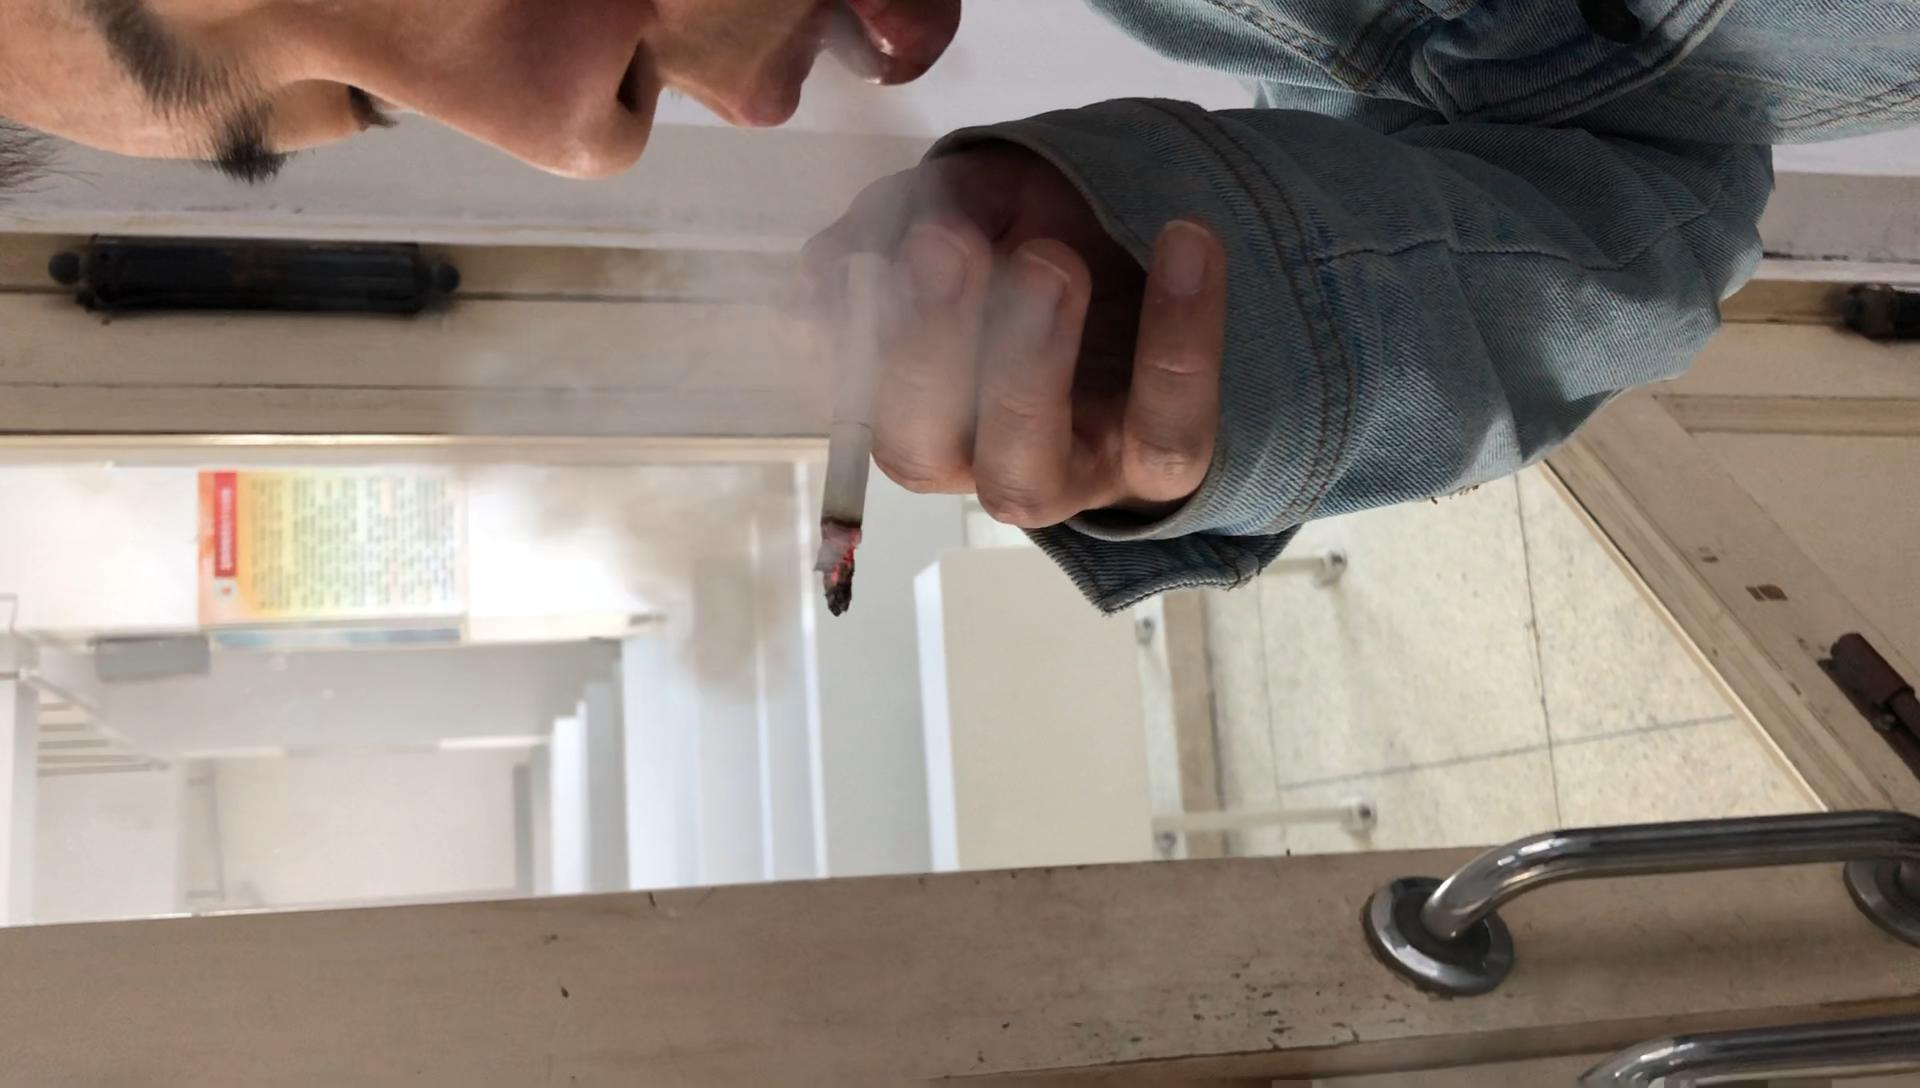Cigarette: (815, 256, 891, 616)
Smoke: (447, 33, 1000, 673)
